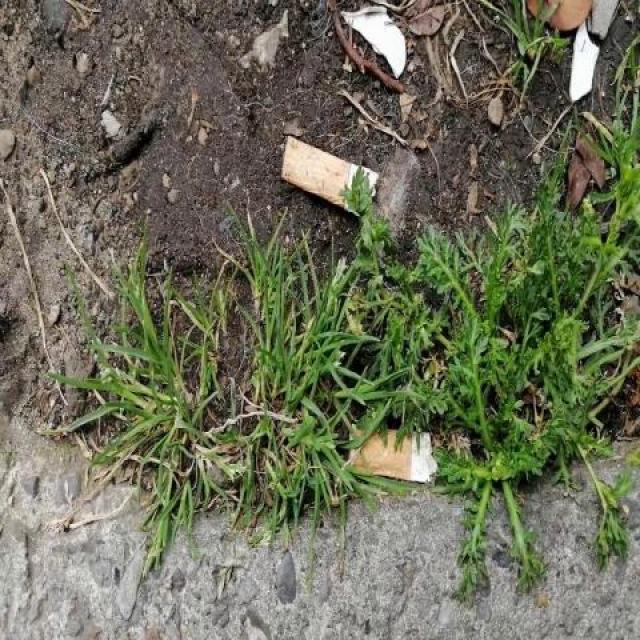non-organic waste: (278, 130, 382, 221), (342, 416, 442, 491)
